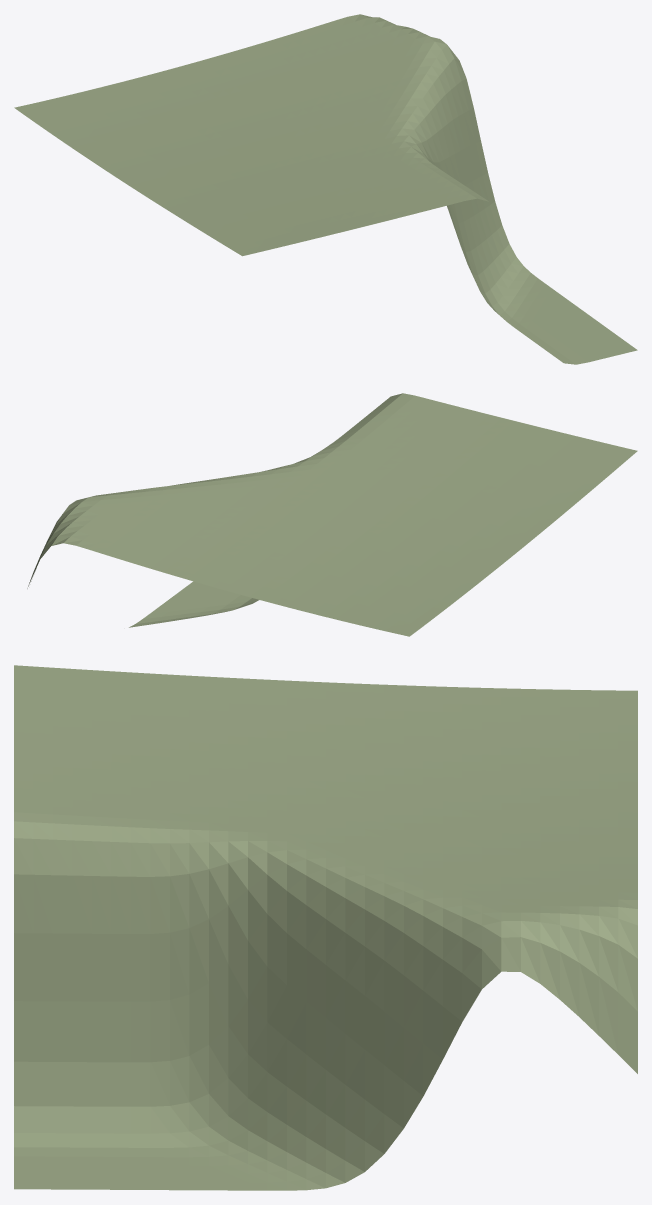
Rendered from canyon-1-3.glb.
The picture shows the model from 3 angles, top to bottom: view 1: azimuth 30°, elevation 25°; view 2: azimuth 150°, elevation 25°; view 3: azimuth 270°, elevation 25°; orthographic projection. The views are drawn at different scales.
Parts seen in each view (by area): view 1: canyon-1-3; view 2: canyon-1-3; view 3: canyon-1-3.
Boxes of the visible parts, x1=… form: canyon-1-3: x1=14, y1=14, x2=637, y2=364; canyon-1-3: x1=27, y1=393, x2=637, y2=636; canyon-1-3: x1=14, y1=665, x2=637, y2=1190.
Size of the model in its own units: 128 by 59.54 by 128.
